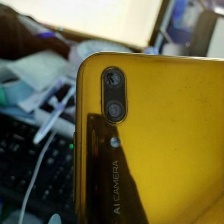phone: (71, 42, 224, 224)
